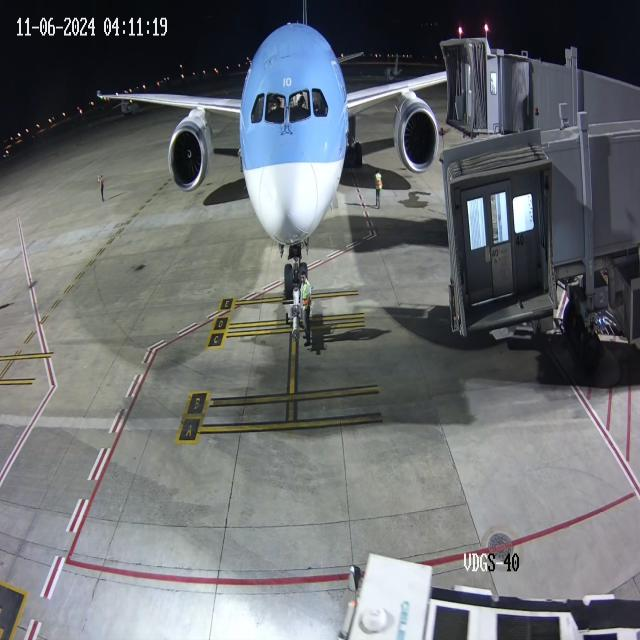bridge: (467, 33, 535, 142)
plane: (90, 2, 435, 307)
window: (249, 80, 332, 139)
